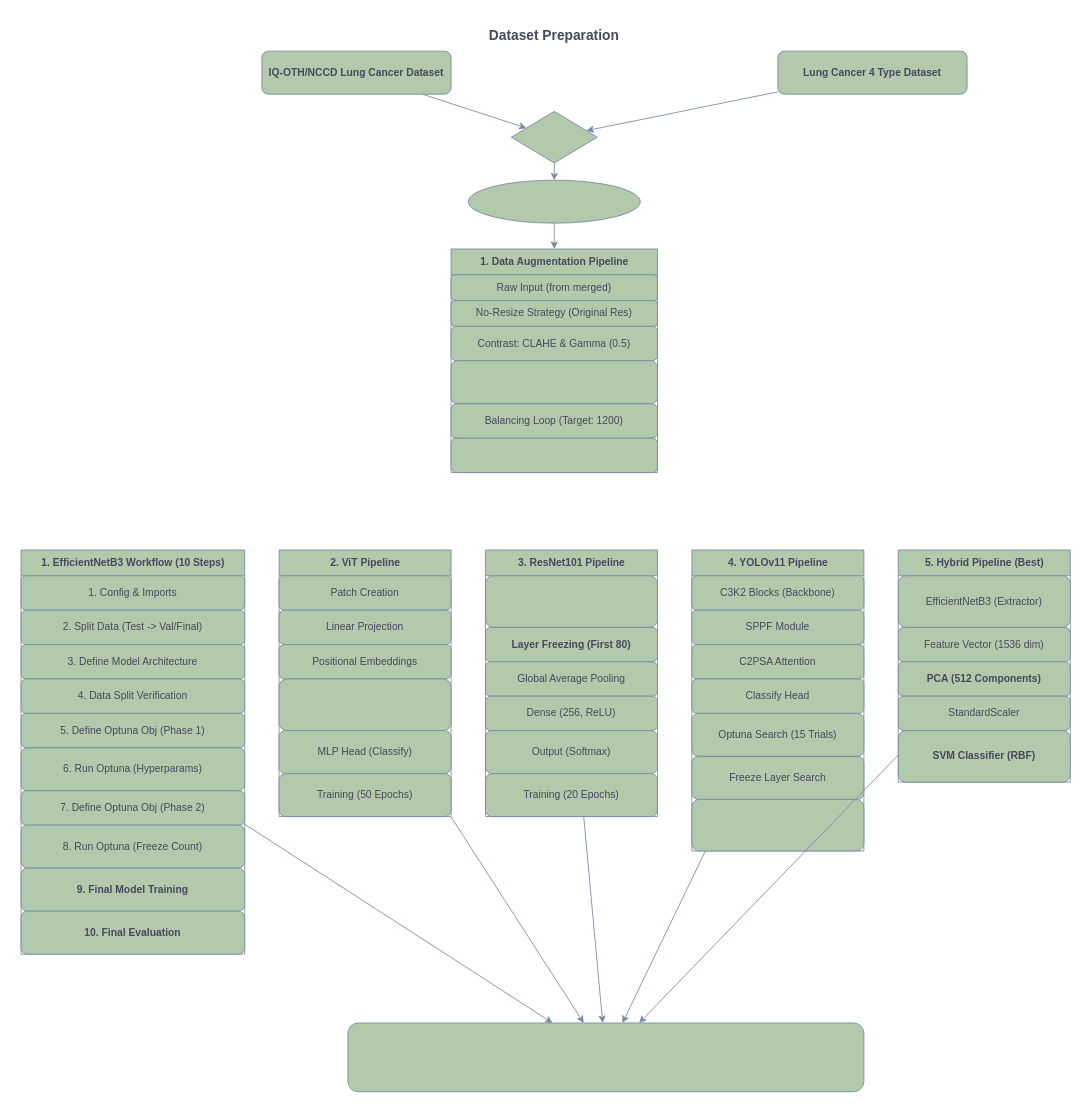
This 1085x1107 diagram has some shape labels left out. Each missing label, with the centre of its shape:
"Augment: Rot/Zoom/Shear/Flip" goes at point 553,382.
"Evaluation & Comparison (Accuracy: Hybrid > EfficientNet > ResNet > ViT > YOLO)" goes at point 605,1057.
"Final Output (3600 Images)" goes at point 553,455.
"Mapping Logic" goes at point 553,137.
"New Combined Dataset (3 Classes: Benign, Malignant, Normal)" goes at point 553,201.
"ResNet101 Backbone" goes at point 571,601.
"Transformer Encoder" goes at point 364,704.
"Two-Stage Training" goes at point 777,825.
